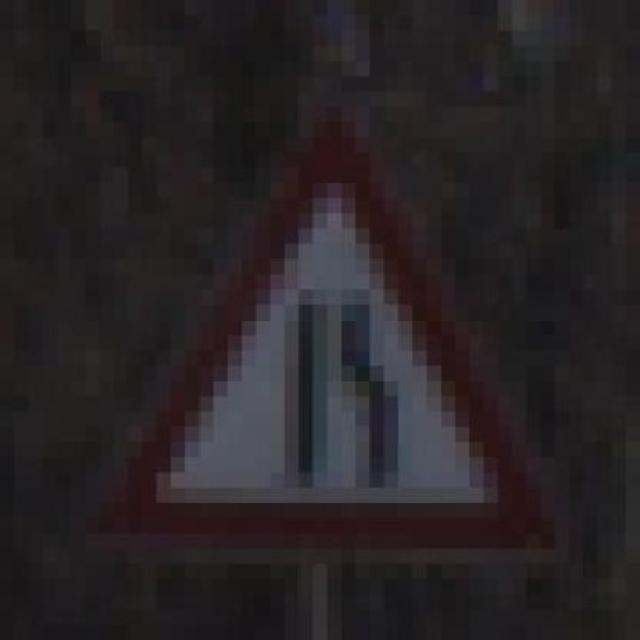-Road narrows on right: (100, 107, 568, 579)
